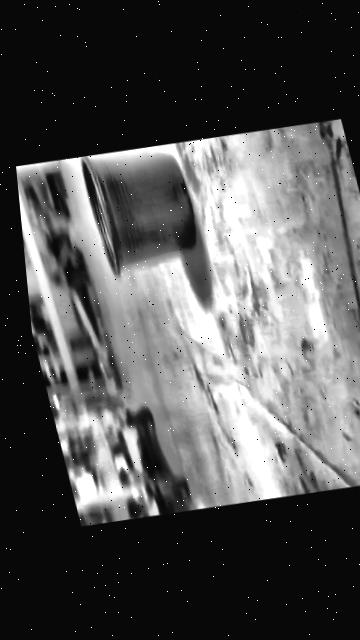pot: (75, 142, 207, 280)
